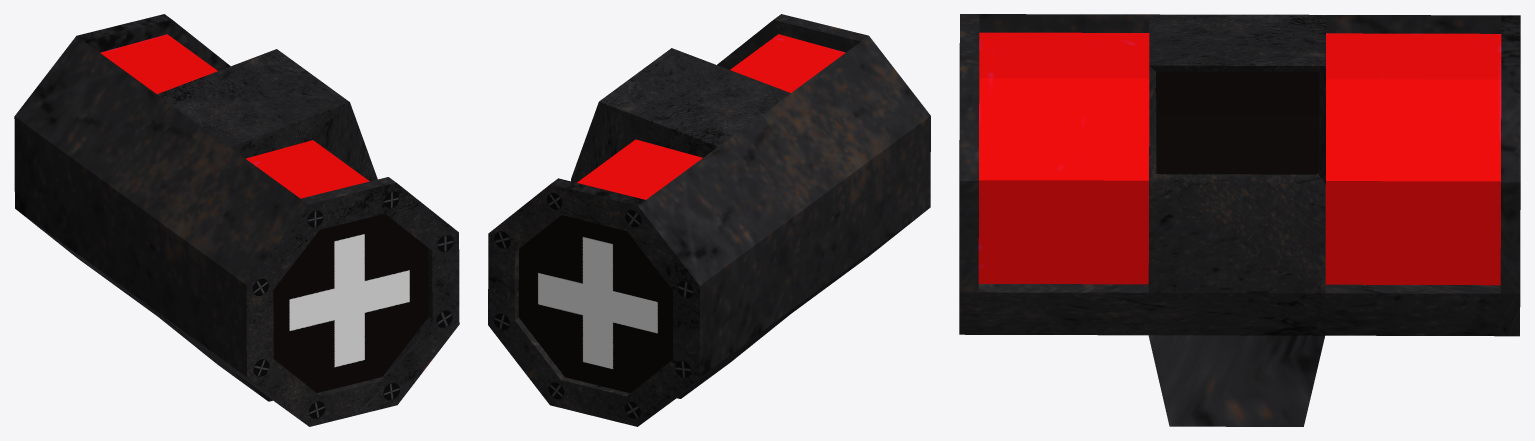
File: Health Pickup.fbx
3 renders of one model, left to right at view 1: azimuth 30°, elevation 25°; view 2: azimuth 150°, elevation 25°; view 3: azimuth 270°, elevation 25°, orthographic. The views are drawn at different scales.
Parts seen in each view (by area): view 1: HealthKit; view 2: HealthKit; view 3: HealthKit.
Boxes of the visible parts, left/top/right/bottom form: HealthKit: left=14, top=14, right=459, bottom=426; HealthKit: left=488, top=14, right=930, bottom=426; HealthKit: left=959, top=14, right=1520, bottom=426.
Bounding box in the file's own units: 0.0185 × 0.0241 × 0.035.
1 material, 1 textured.
